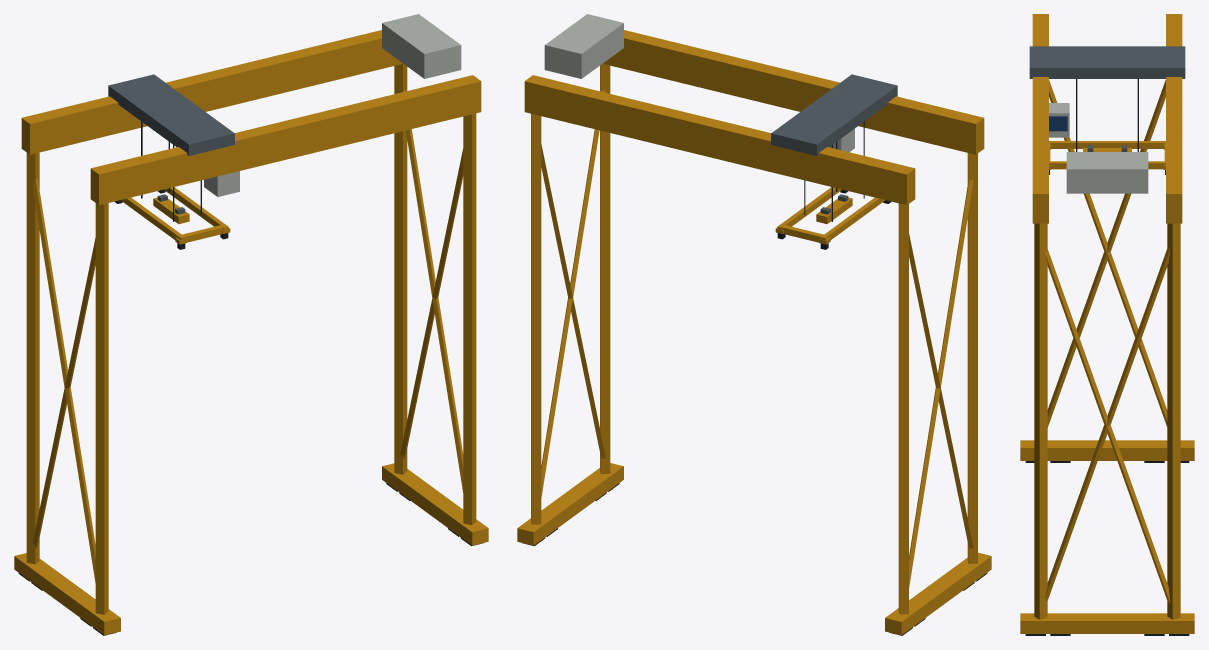
The model's file is yard-gantry.glb.
The picture shows the model from 3 angles, left to right: view 1: azimuth 30°, elevation 25°; view 2: azimuth 150°, elevation 25°; view 3: azimuth 270°, elevation 25°; orthographic projection. The views are drawn at different scales.
Parts seen in each view (by area): view 1: yard-gantry; view 2: yard-gantry; view 3: yard-gantry.
Boxes of the visible parts, x1,y1,x2,y2 form: yard-gantry: (14,14,488,635); yard-gantry: (517,14,991,635); yard-gantry: (1020,14,1194,635).
Bounding box in the file's own units: 41.8 × 50.2 × 17.
